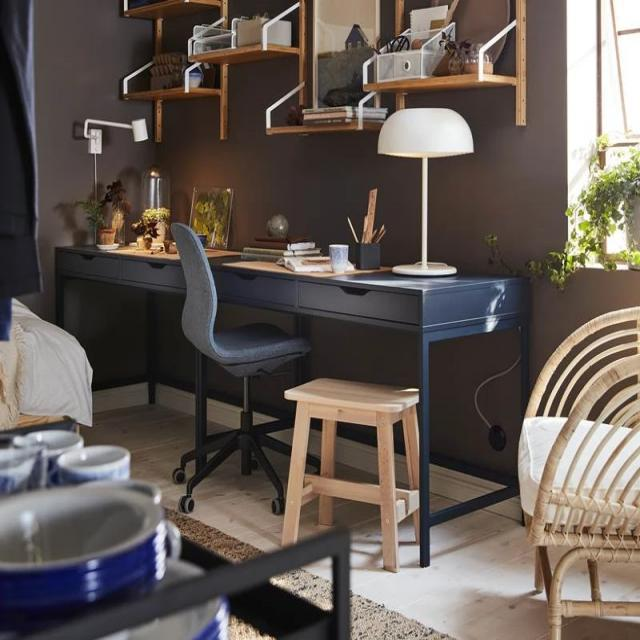table: (49, 198, 532, 376)
